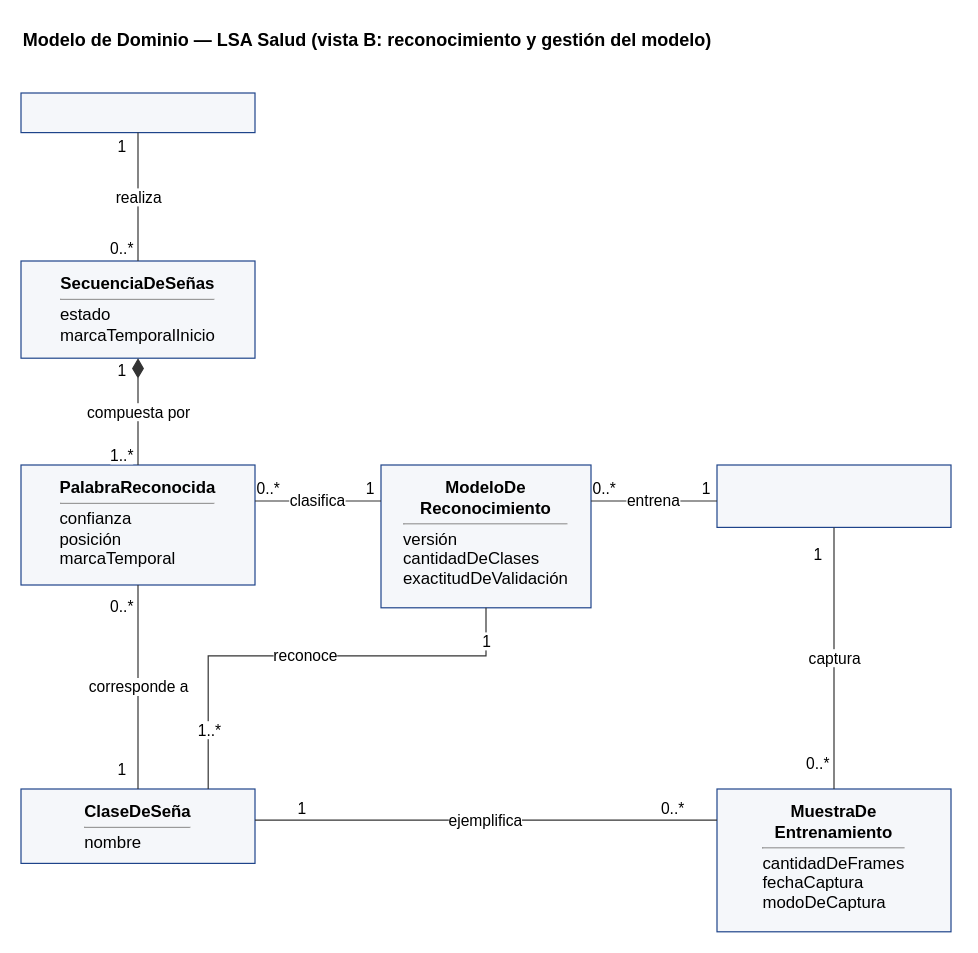
Image size: 978x953. Some labels were removed from this diagram. Each missing label, with the box of its shape:
Desarrollador de IA / Equipo de Proyecto: (716, 464, 951, 527)
Paciente: (20, 92, 255, 133)
